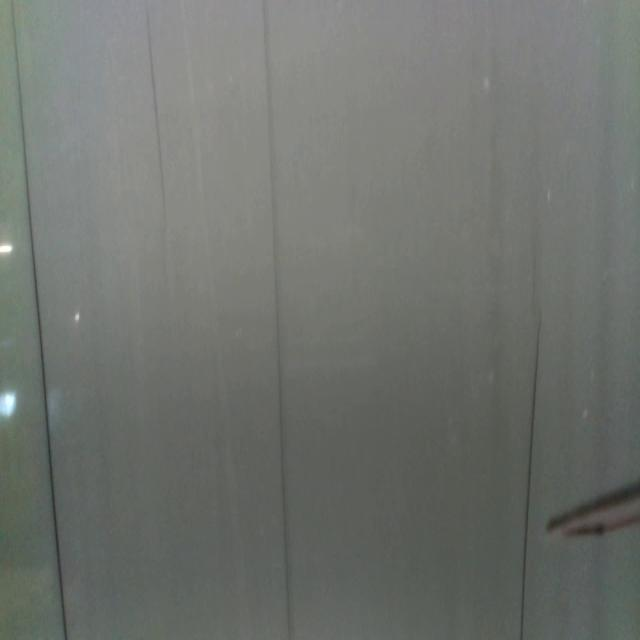crease: (11, 1, 68, 640), (262, 0, 293, 640), (519, 306, 544, 640), (144, 0, 170, 227)
